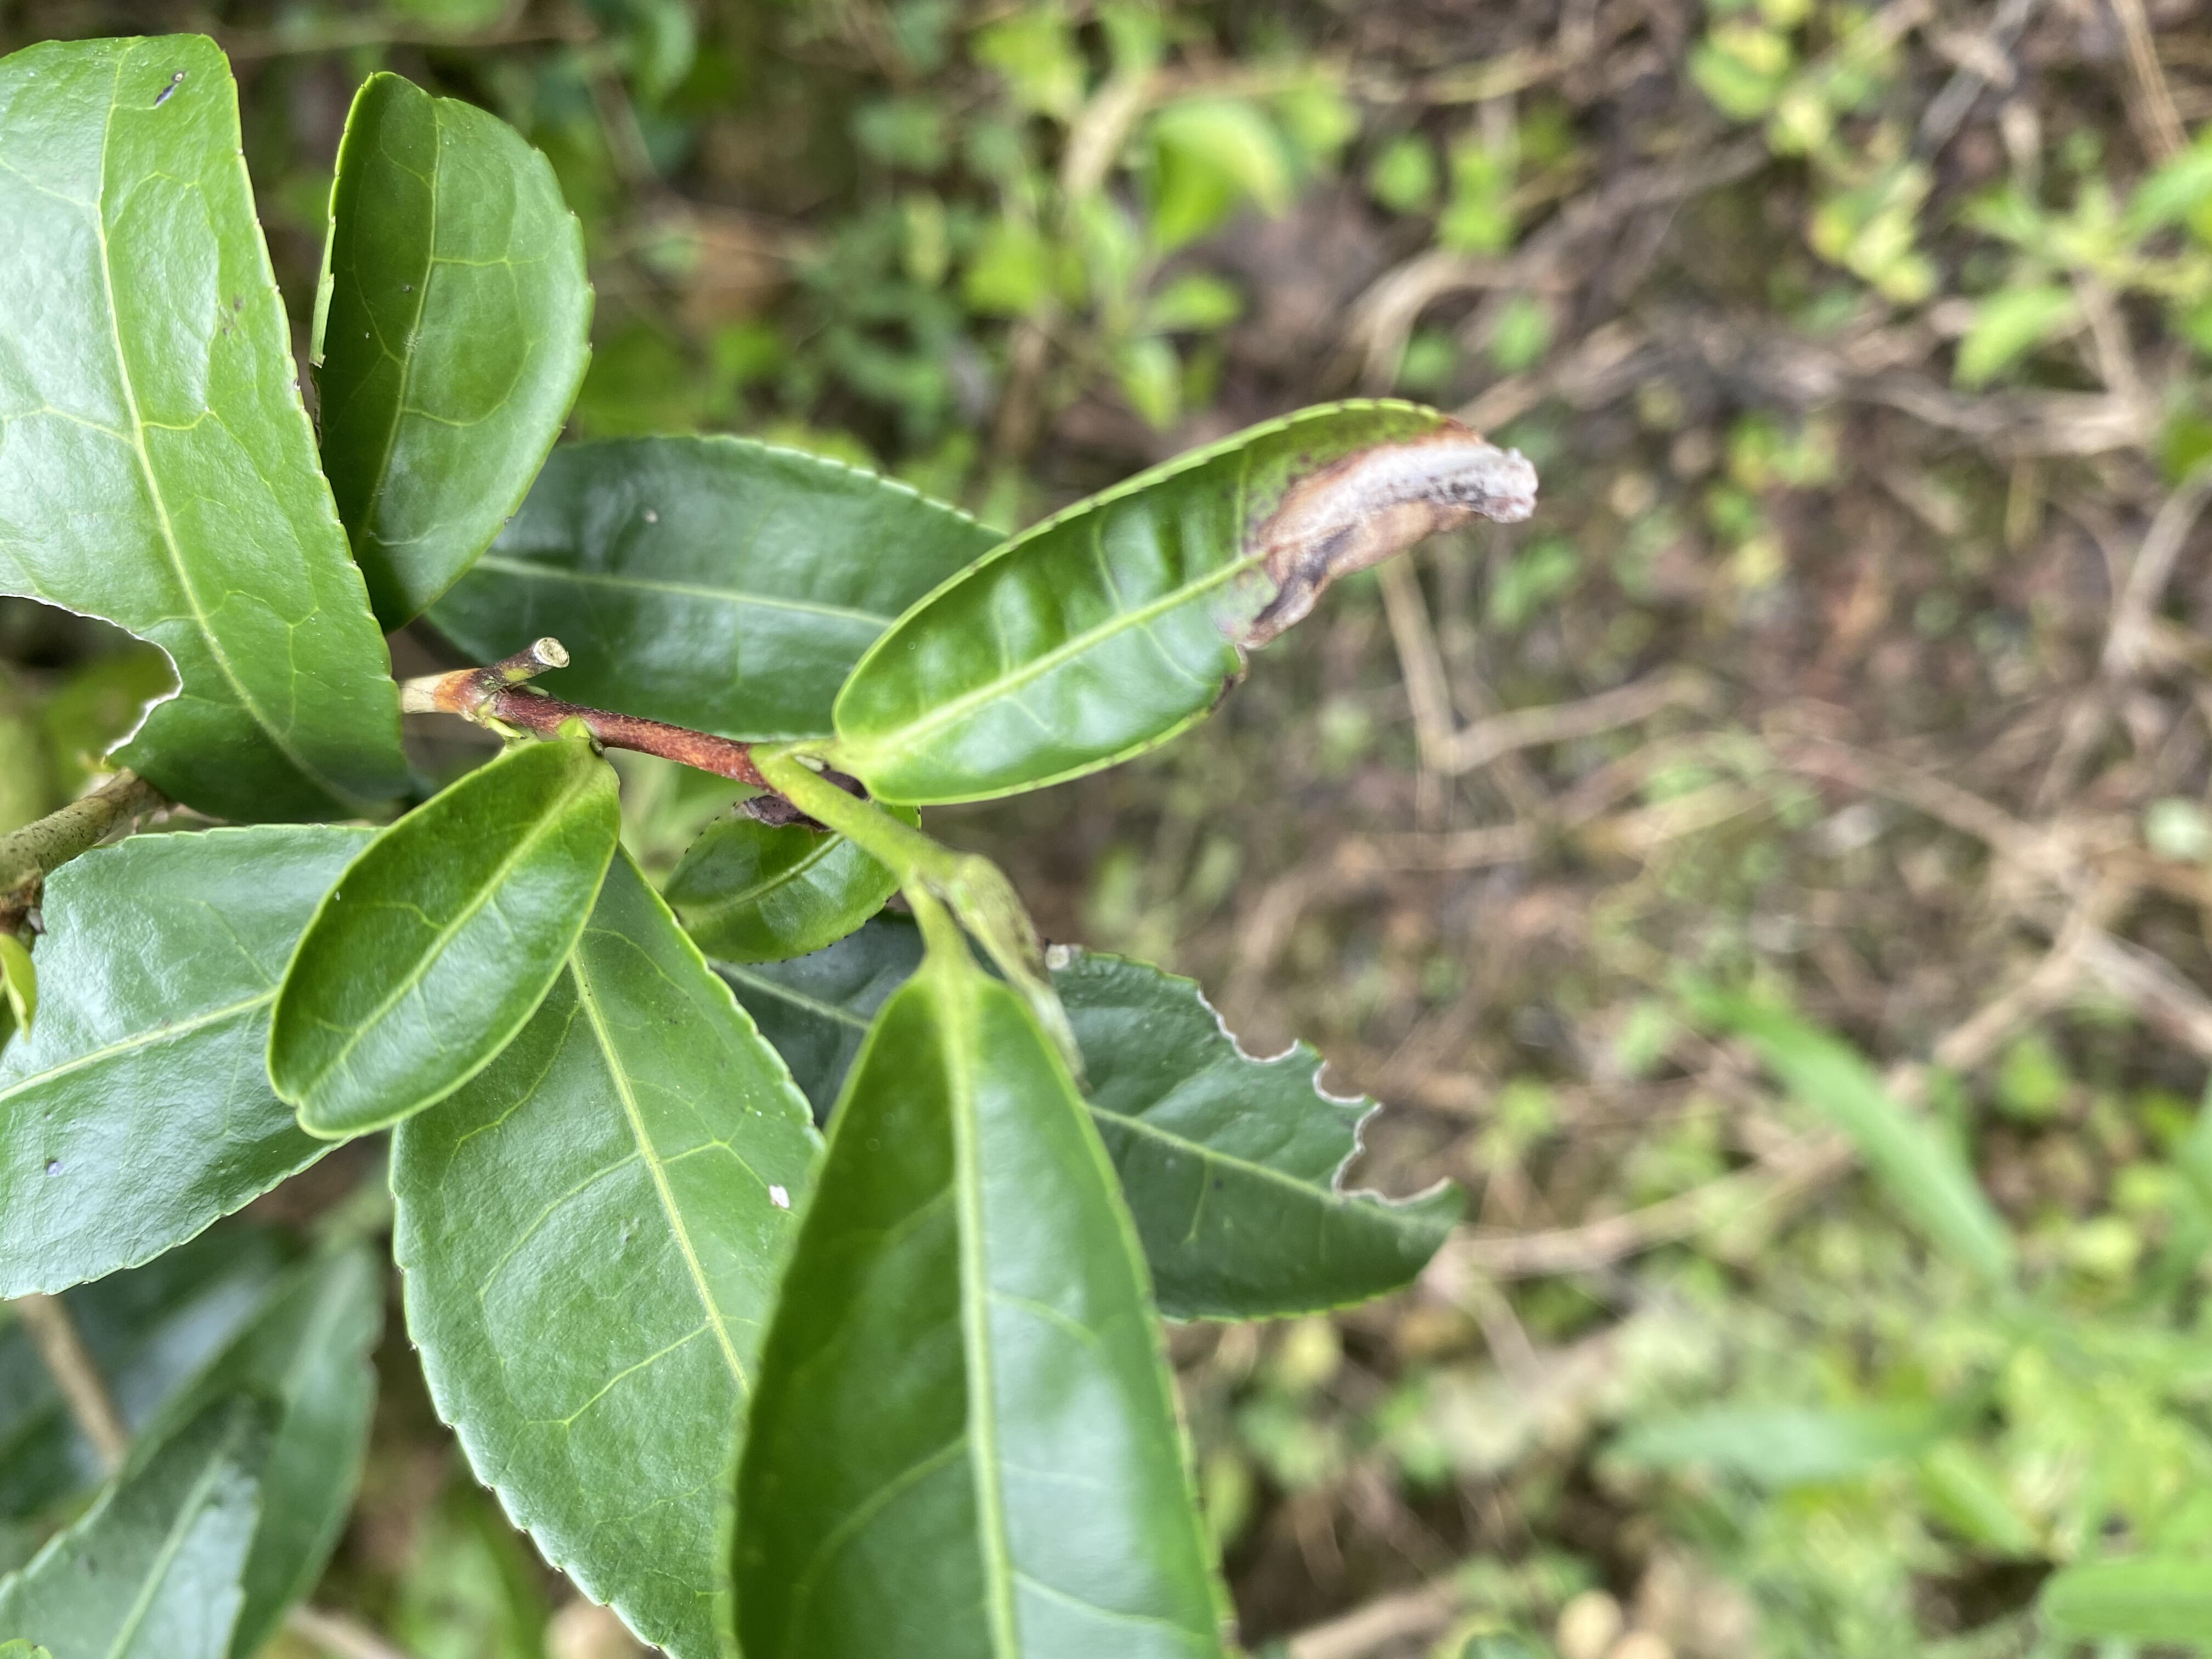chihuo_high: (5, 30, 408, 824), (810, 908, 1465, 1321)
healthy: (265, 734, 622, 1140)
tanju_high: (836, 396, 1541, 809)
